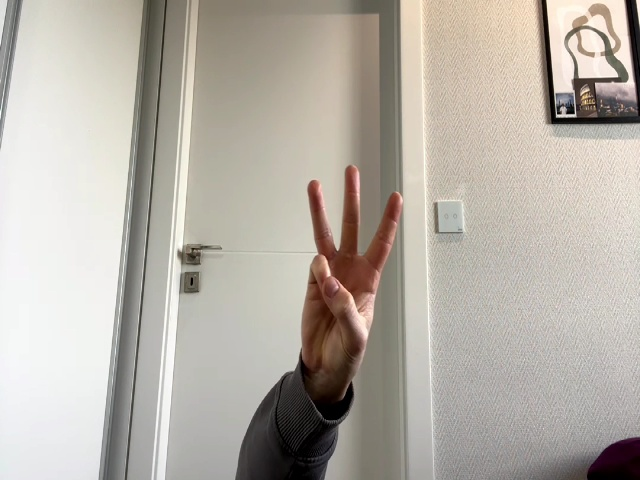W: (301, 165, 403, 358)
